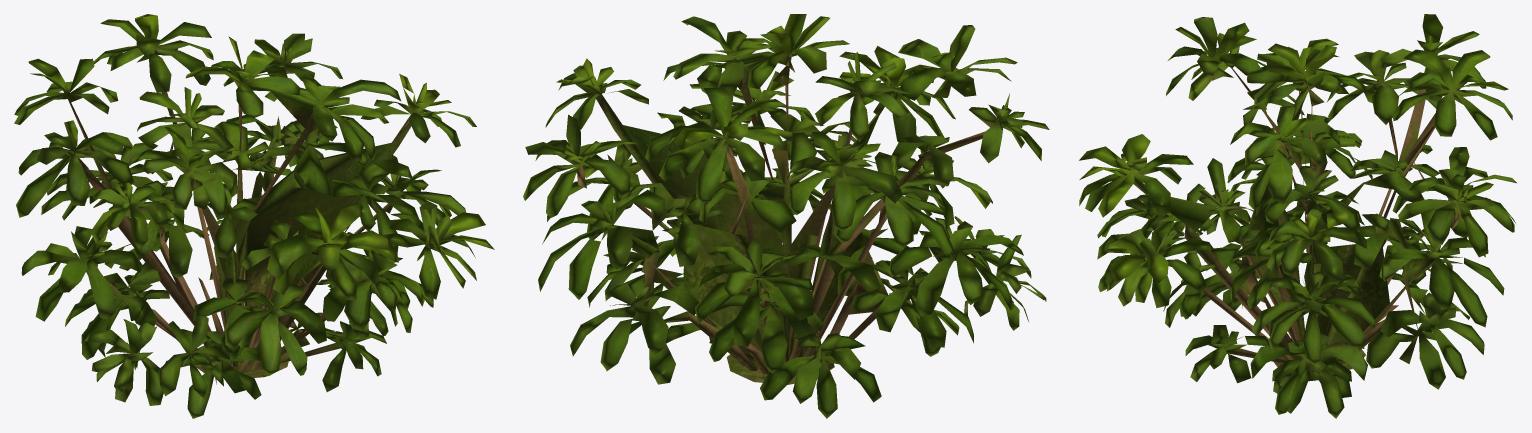
The model's file is VEG_ArbustoTropical_03_LOD0.fbx.
3 renders of one model, left to right at view 1: azimuth 30°, elevation 25°; view 2: azimuth 150°, elevation 25°; view 3: azimuth 270°, elevation 25°, orthographic. The views are drawn at different scales.
Visible parts, largest first — view 1: VEG_ArbustoTropical_03_Mesh000; view 2: VEG_ArbustoTropical_03_Mesh000; view 3: VEG_ArbustoTropical_03_Mesh000.
Part boxes in pixels (x1,y1,x2,y2): VEG_ArbustoTropical_03_Mesh000: (14,14,494,418); VEG_ArbustoTropical_03_Mesh000: (523,14,1049,418); VEG_ArbustoTropical_03_Mesh000: (1079,14,1516,418).
Bounding box in the file's own units: 2.55 × 1.8 × 2.33.
